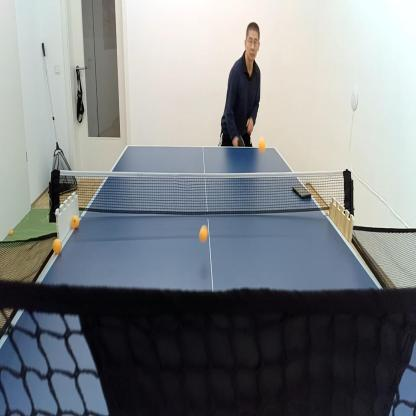Ball: (53, 238, 62, 254), (70, 217, 80, 230), (200, 226, 208, 241), (258, 139, 264, 150), (9, 229, 16, 236)
